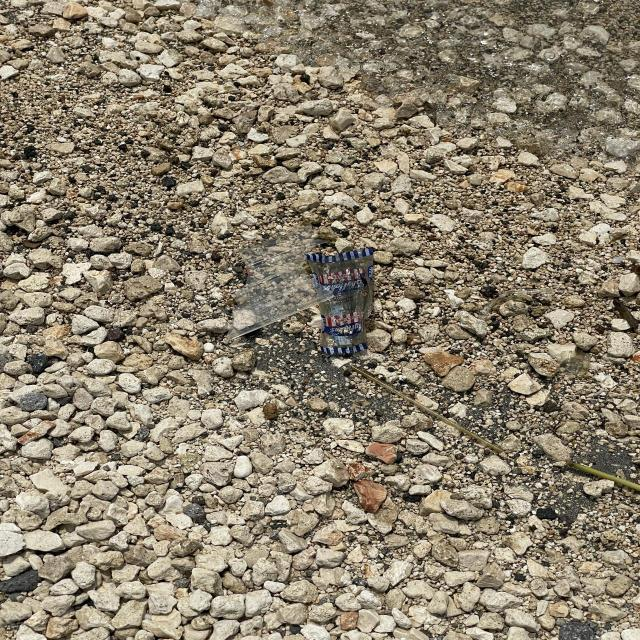plastic_waste: (353, 365, 505, 453), (307, 247, 379, 357)
